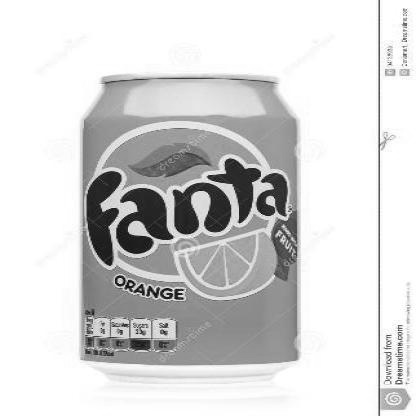alumunium_can: (79, 71, 302, 386)
